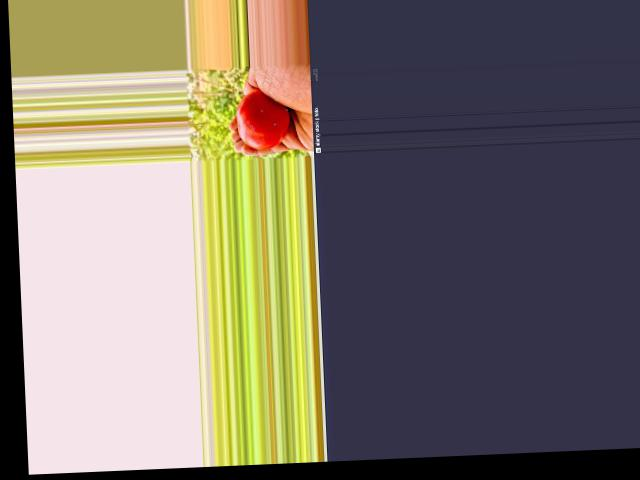tomato: (236, 89, 290, 149)
